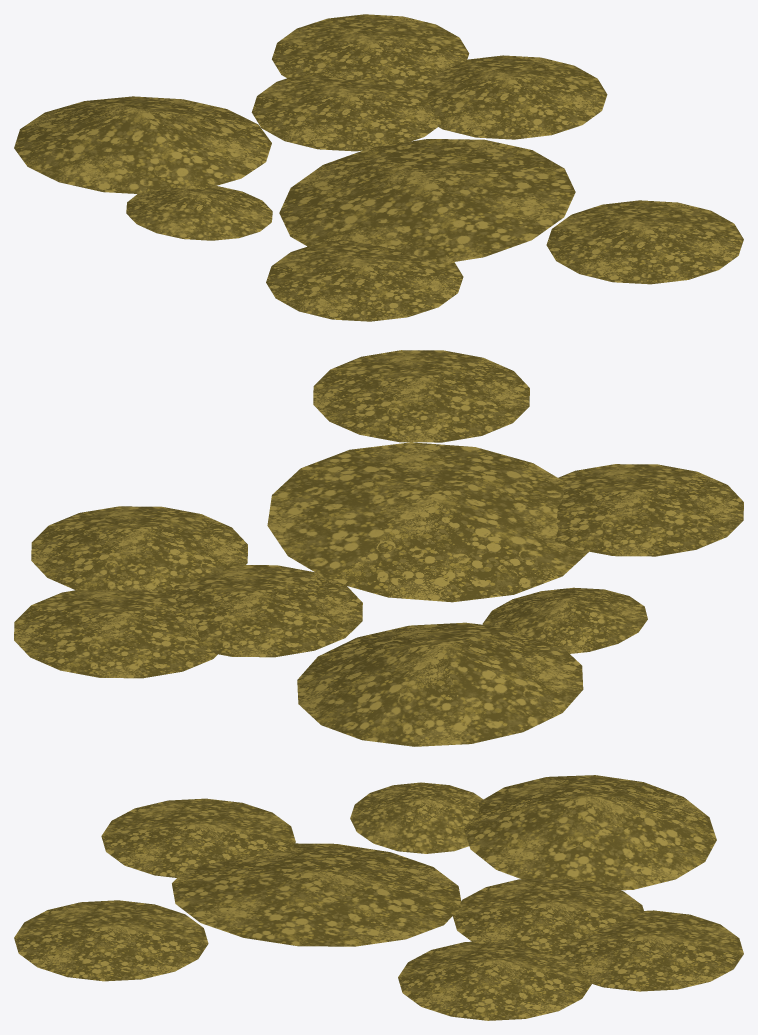
File: GMTK2024_DragonKeep_CoinPile.fbx
3 renders of one model, top to bottom at view 1: azimuth 30°, elevation 25°; view 2: azimuth 150°, elevation 25°; view 3: azimuth 270°, elevation 25°, orthographic. The views are drawn at different scales.
Visible parts, largest first — view 1: teeawdaw084; view 2: teeawdaw084; view 3: teeawdaw084.
Boxes of the visible parts, x1,y1,x2,y2 form: teeawdaw084: (14, 14, 743, 321); teeawdaw084: (14, 350, 743, 746); teeawdaw084: (14, 775, 743, 1020).
Bounding box in the file's own units: 72.4 × 5.56 × 90.02.
